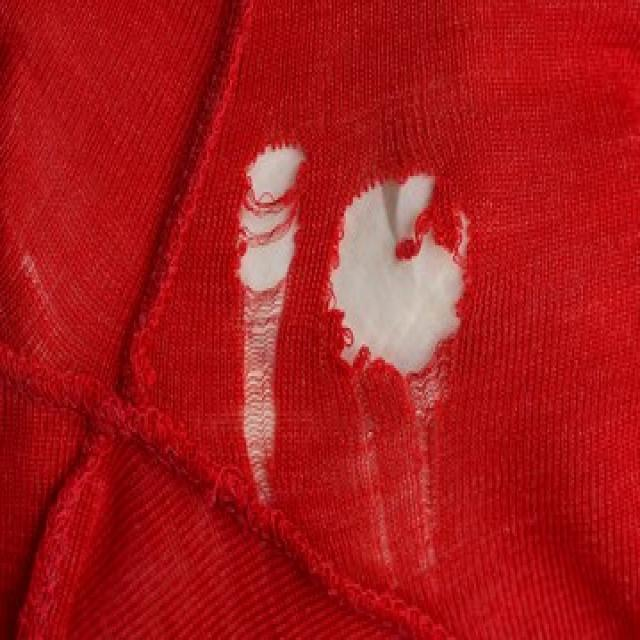Hole: (330, 174, 469, 574), (238, 145, 305, 504)
Line: (0, 335, 465, 640), (105, 0, 265, 408), (0, 440, 102, 640)
